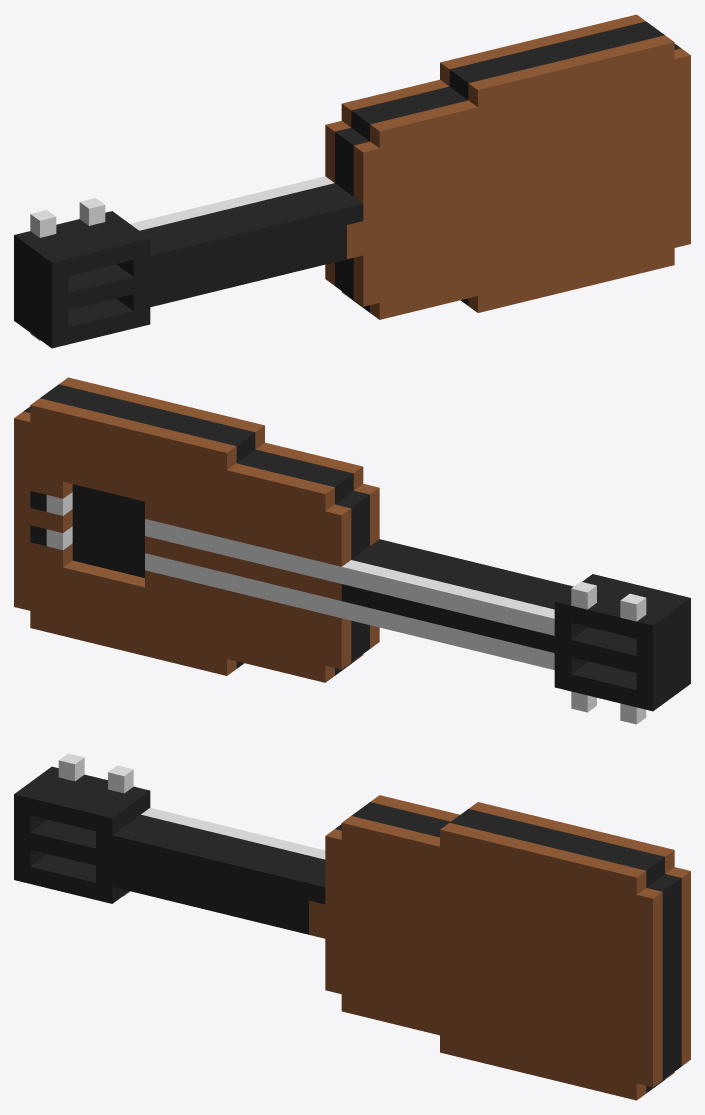
Rendered from SchoolPack-17-guitar.obj.
3 renders of one model, top to bottom at view 1: azimuth 30°, elevation 25°; view 2: azimuth 150°, elevation 25°; view 3: azimuth 330°, elevation 25°, orthographic.
Parts seen in each view (by area): view 1: guitar; view 2: guitar; view 3: guitar.
Part boxes in pixels (<box>): guitar: <box>14,14,690,348</box>; guitar: <box>14,377,690,724</box>; guitar: <box>14,753,690,1100</box>.
Size of the model in its own units: 3.9 by 1.3 by 0.4.
1 material, 1 textured.
